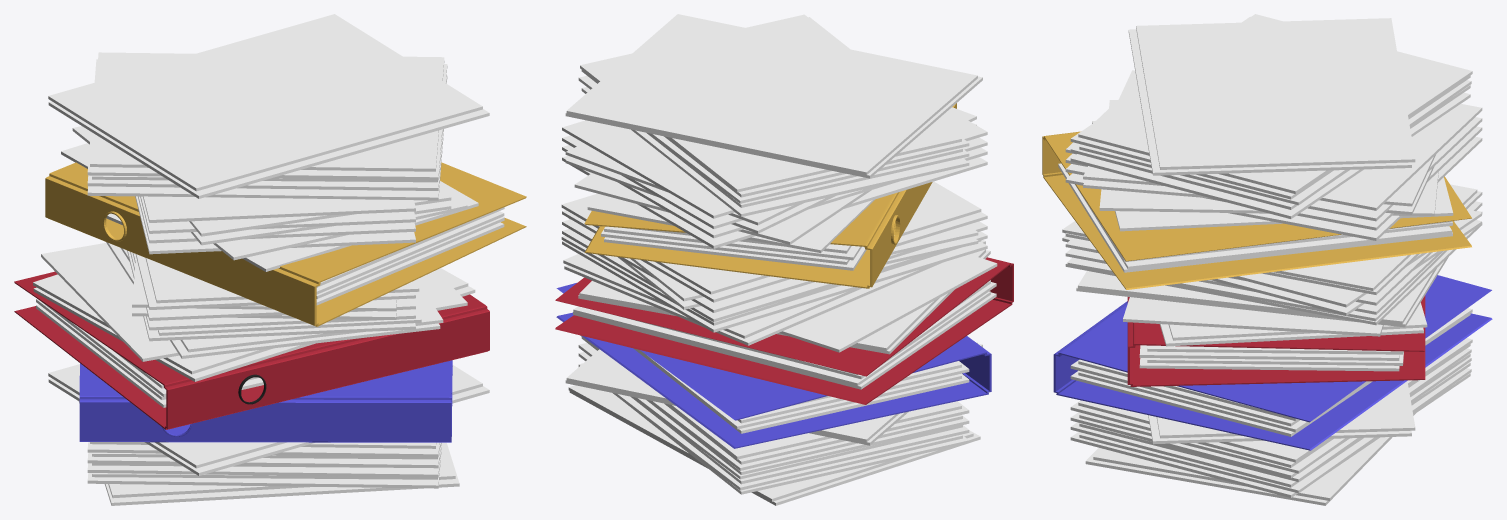
The model's file is documents_0.fbx.
3 views of the same model, side by side, from view 1: azimuth 30°, elevation 25°; view 2: azimuth 150°, elevation 25°; view 3: azimuth 270°, elevation 25° (orthographic). The views are drawn at different scales.
Parts seen in each view (by area): view 1: Cube.053, 平面, 平面.002, 平面.001, Cube.014, Cube.049, Cube.039, Cube.052, Cube.047, Cube.019, Cube.022, Cube.010 (+37 smaller); view 2: Cube.053, 平面, 平面.001, 平面.002, Cube.014, Cube.049, Cube.039, Cube.032, Cube.047, Cube.030, Cube.010, Cube.002 (+40 smaller); view 3: Cube.053, 平面.001, 平面.002, 平面, Cube.049, Cube.014, Cube.039, Cube.047, Cube.044, Cube.010, Cube.025, Cube.046 (+42 smaller).
Boxes of the visible parts, x1=… form: Cube.053: x1=48, y1=14, x2=482, y2=191; 平面: x1=14, y1=271, x2=489, y2=429; 平面.002: x1=45, y1=162, x2=526, y2=326; 平面.001: x1=79, y1=360, x2=452, y2=442; Cube.014: x1=41, y1=243, x2=467, y2=361; Cube.049: x1=90, y1=52, x2=444, y2=171; Cube.039: x1=143, y1=196, x2=415, y2=222; Cube.052: x1=48, y1=101, x2=489, y2=198; Cube.047: x1=87, y1=129, x2=443, y2=200; Cube.019: x1=87, y1=442, x2=441, y2=488; Cube.022: x1=87, y1=443, x2=441, y2=477; Cube.010: x1=48, y1=364, x2=482, y2=468; Cube.053: x1=566, y1=14, x2=977, y2=175; 平面: x1=555, y1=257, x2=1013, y2=404; 平面.001: x1=556, y1=283, x2=991, y2=448; 平面.002: x1=584, y1=103, x2=956, y2=288; Cube.014: x1=779, y1=254, x2=997, y2=352; Cube.049: x1=580, y1=14, x2=961, y2=192; Cube.039: x1=562, y1=109, x2=987, y2=218; Cube.032: x1=561, y1=181, x2=981, y2=294; Cube.047: x1=581, y1=87, x2=969, y2=216; Cube.030: x1=562, y1=241, x2=987, y2=332; Cube.010: x1=566, y1=342, x2=977, y2=442; Cube.002: x1=573, y1=291, x2=990, y2=386; Cube.053: x1=1136, y1=18, x2=1415, y2=169; 平面.001: x1=1053, y1=275, x2=1492, y2=450; 平面.002: x1=1042, y1=131, x2=1471, y2=289; 平面: x1=1127, y1=295, x2=1425, y2=386; Cube.049: x1=1078, y1=14, x2=1472, y2=194; Cube.014: x1=1123, y1=297, x2=1383, y2=336; Cube.039: x1=1065, y1=82, x2=1482, y2=210; Cube.047: x1=1070, y1=92, x2=1470, y2=218; Cube.044: x1=1099, y1=100, x2=1438, y2=216; Cube.010: x1=1156, y1=381, x2=1415, y2=438; Cube.025: x1=1078, y1=267, x2=1437, y2=324; Cube.046: x1=1092, y1=120, x2=1453, y2=231.
Bounding box in the file's own units: 378 × 295 × 369.
